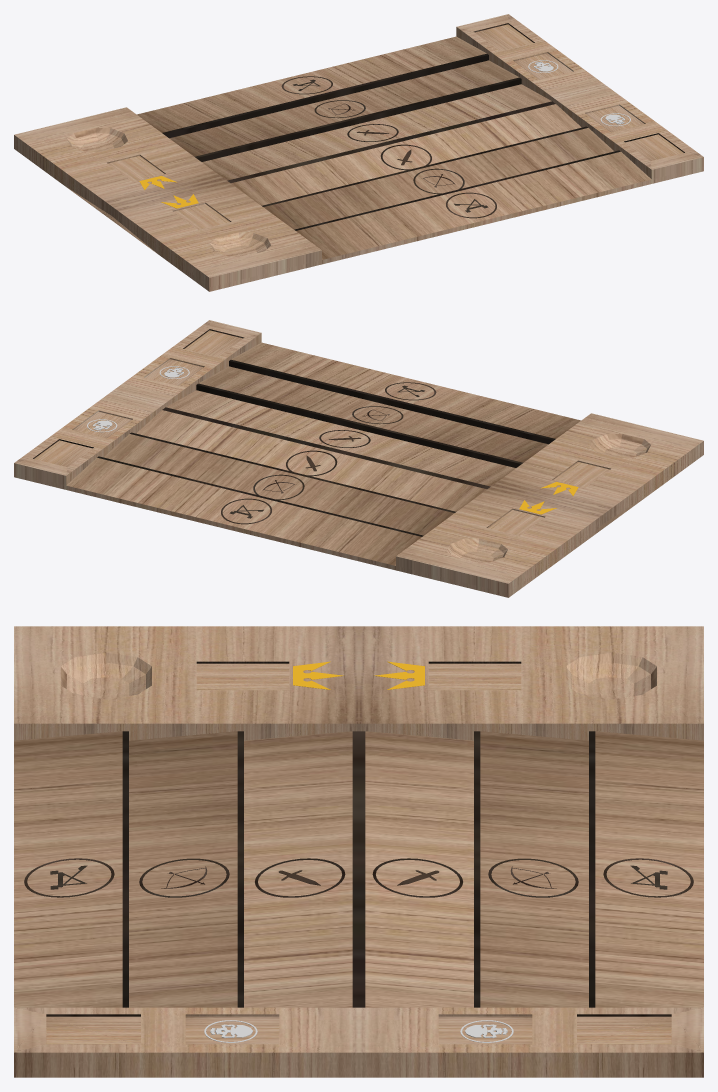
Rendered from board.fbx.
3 views of the same model, one above another, from view 1: azimuth 30°, elevation 25°; view 2: azimuth 150°, elevation 25°; view 3: azimuth 270°, elevation 25° (orthographic). The views are drawn at different scales.
Visible parts, largest first — view 1: Cube.002; view 2: Cube.002; view 3: Cube.002.
Part boxes in pixels (x1=…): Cube.002: x1=14, y1=14, x2=703, y2=291; Cube.002: x1=14, y1=320, x2=703, y2=597; Cube.002: x1=14, y1=626, x2=703, y2=1077.
Size of the model in its own units: 210 by 5.8 by 144.
4 materials, 2 textured.
